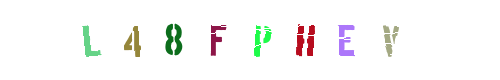4: (98, 0, 178, 80)
8: (133, 0, 213, 80)
E: (294, 0, 374, 80)
F: (210, 0, 290, 80)
H: (232, 0, 312, 80)
L: (74, 0, 154, 80)
P: (220, 0, 300, 80)
V: (304, 0, 384, 80)
